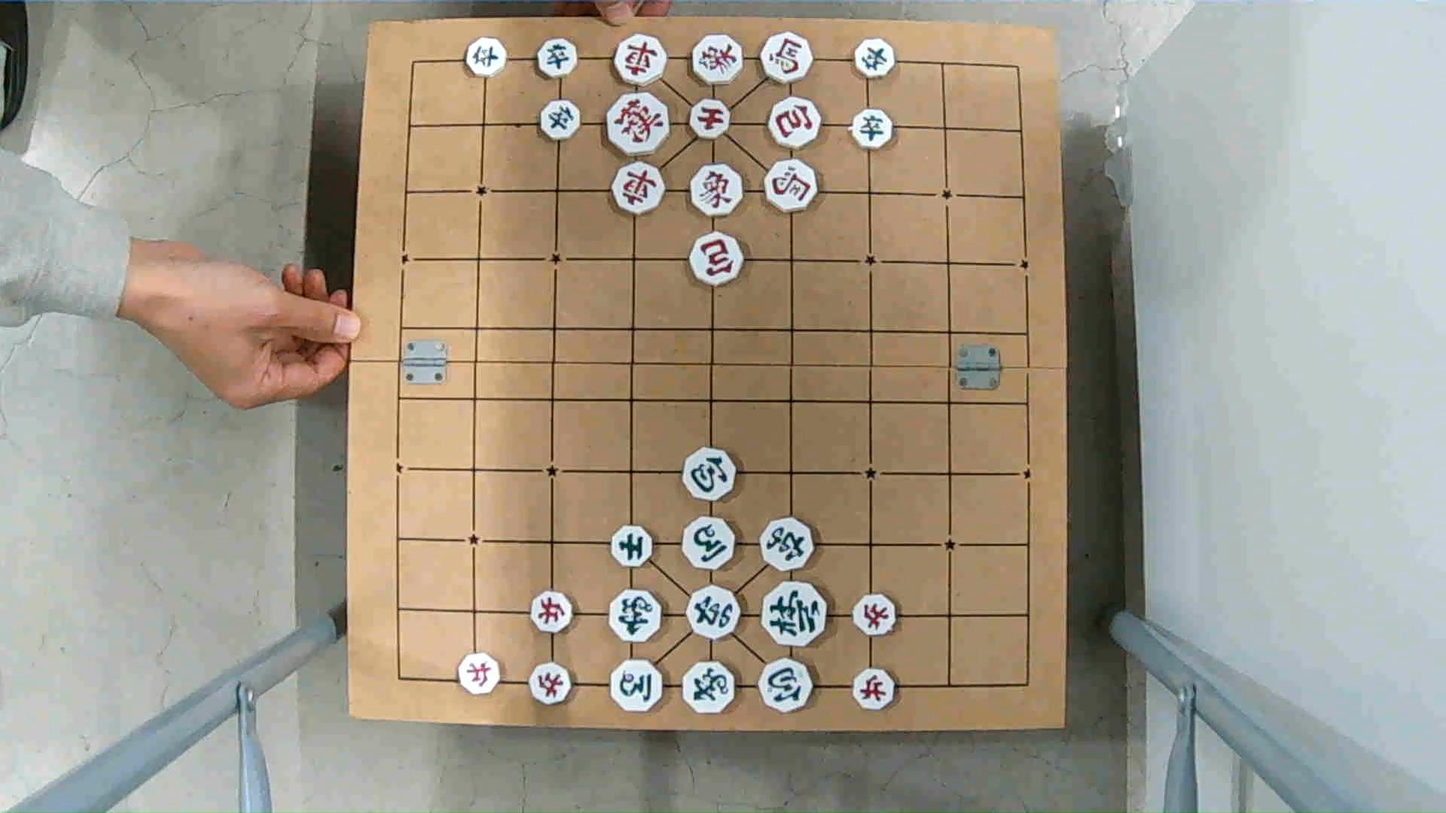cha_green: (760, 519, 816, 570), (684, 587, 740, 637)
cha_red: (611, 160, 664, 216), (615, 40, 667, 87)
jol_green: (852, 111, 897, 148), (540, 102, 582, 141), (466, 39, 508, 77), (854, 41, 897, 77), (538, 40, 579, 77)
jol_red: (526, 663, 578, 707), (853, 596, 900, 635), (853, 669, 898, 708), (459, 656, 504, 694), (532, 591, 576, 629)
ma_green: (681, 519, 737, 568), (611, 661, 668, 709)
ma_red: (766, 158, 820, 213), (761, 36, 813, 82)
po_green: (682, 450, 738, 500), (758, 660, 814, 709)
po_red: (689, 234, 746, 282), (767, 100, 822, 147)
sa_green: (611, 522, 654, 568)
sa_red: (689, 99, 734, 136)
sang_green: (605, 590, 666, 644), (679, 662, 735, 714)
sang_red: (690, 165, 745, 218), (689, 35, 744, 81)
wang_green: (758, 580, 825, 645)
wang_red: (606, 96, 669, 156)
